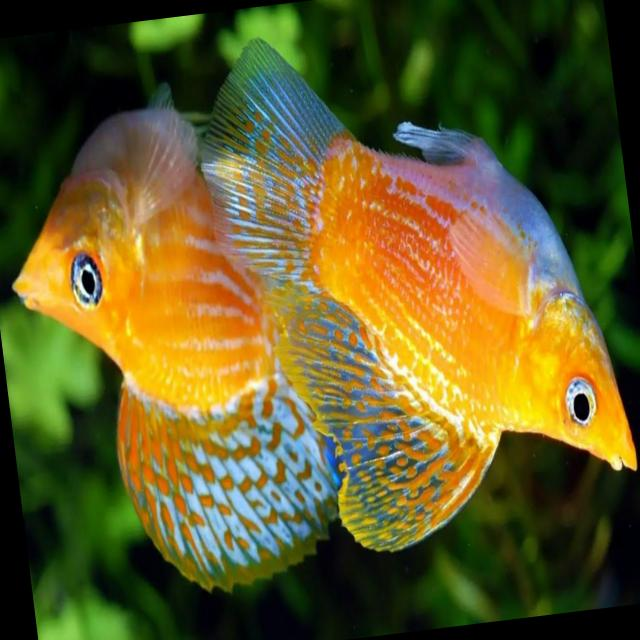PlatyFish: (180, 3, 640, 589), (0, 37, 374, 631)
